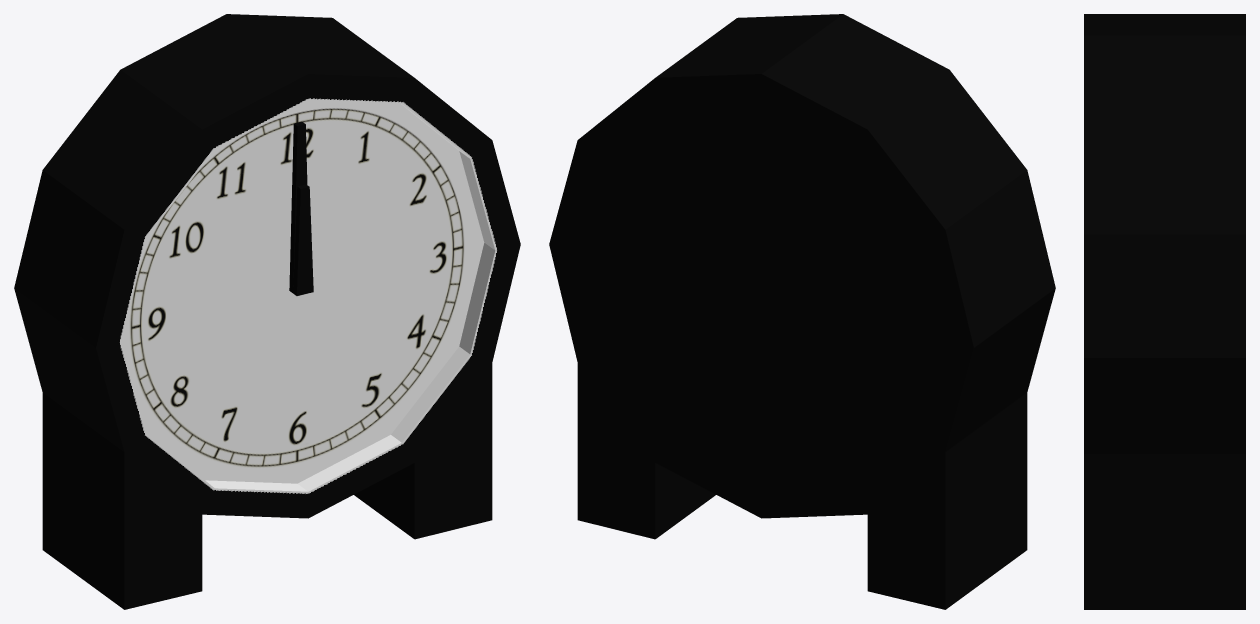
File: Clock Analog.fbx
3 renders of one model, left to right at view 1: azimuth 30°, elevation 25°; view 2: azimuth 150°, elevation 25°; view 3: azimuth 270°, elevation 25°, orthographic.
Parts seen in each view (by area): view 1: Clock, Hours, Minutes; view 2: Clock; view 3: Clock.
Boxes of the visible parts, x1,y1,x2,y2 form: Clock: (14, 14, 520, 609); Hours: (293, 184, 313, 295); Minutes: (289, 121, 307, 293); Clock: (549, 14, 1055, 609); Clock: (1084, 14, 1245, 609).
Size of the model in its own units: 200 by 221 by 66.75.
